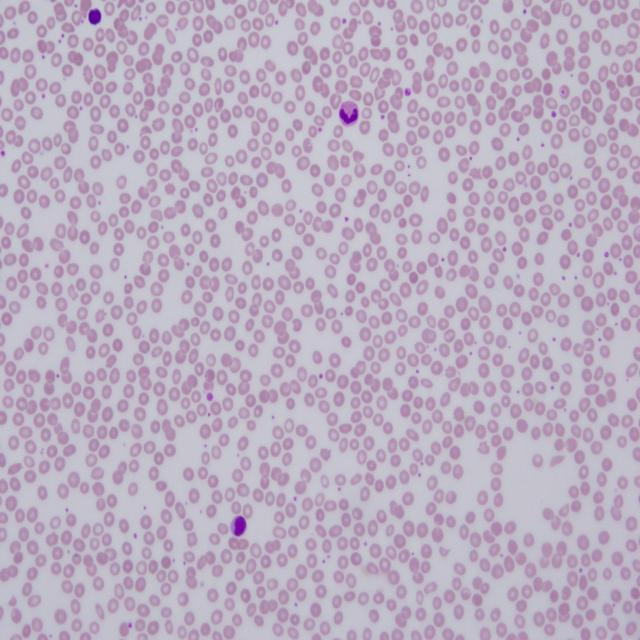cell: (339, 100, 359, 124)
